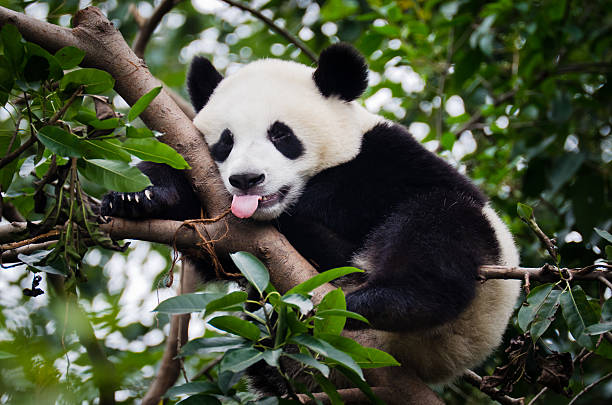panda: (172, 36, 405, 231)
